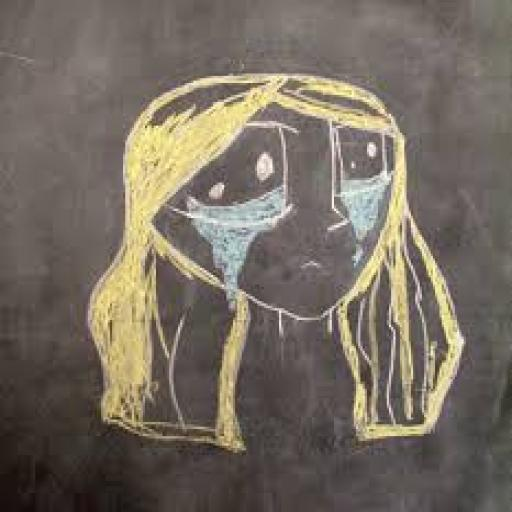person: (74, 66, 471, 461)
